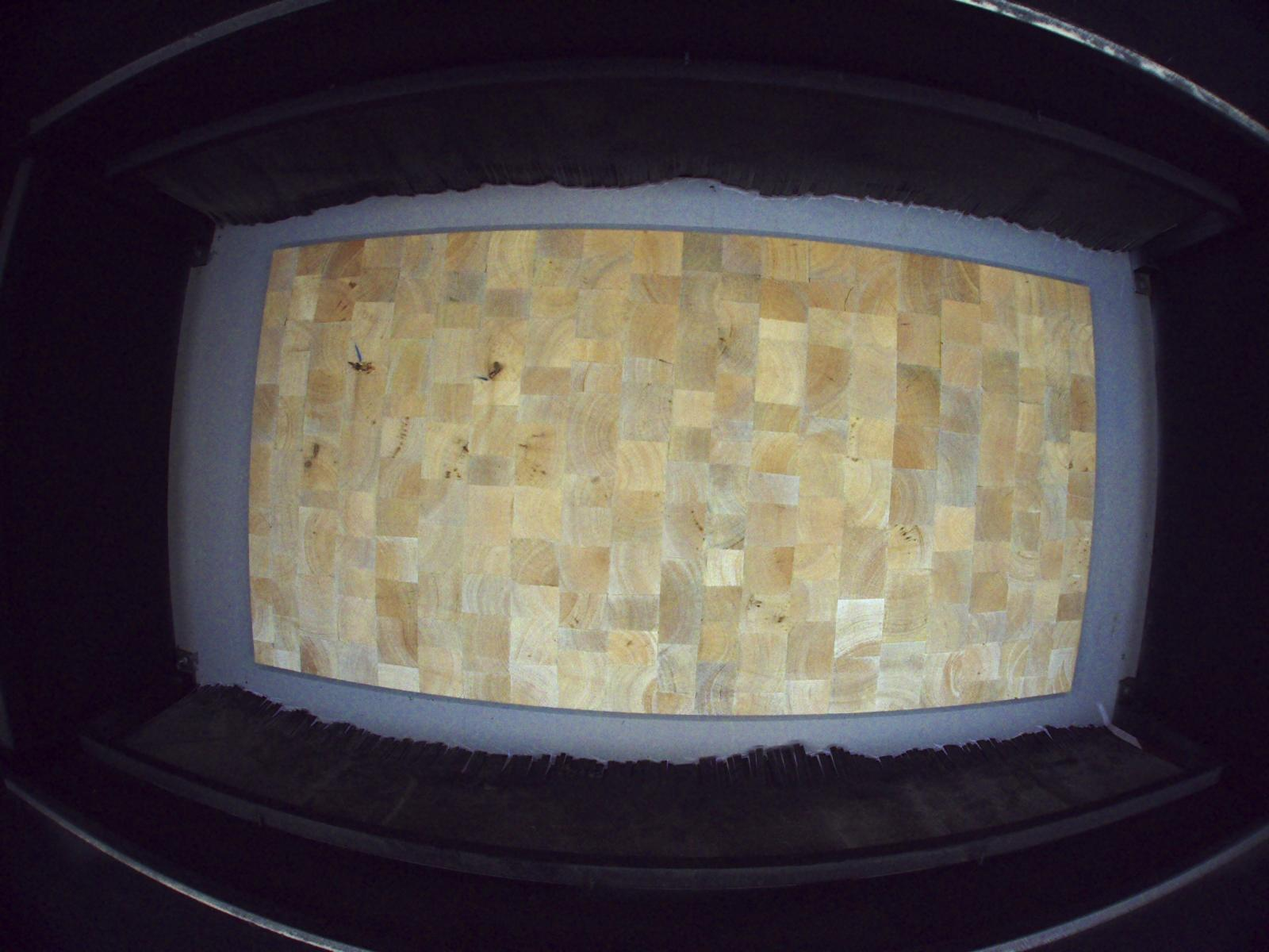nudillo: (346, 359, 378, 376), (487, 361, 505, 379)
